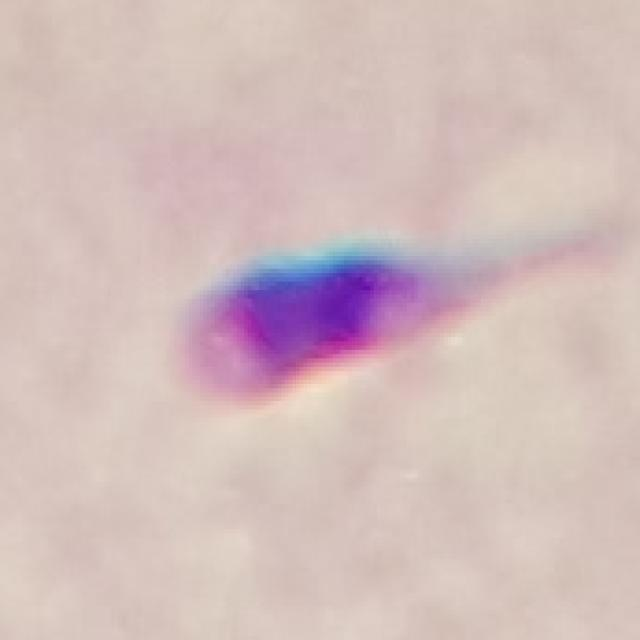abnormal sperm: (161, 228, 588, 412)
